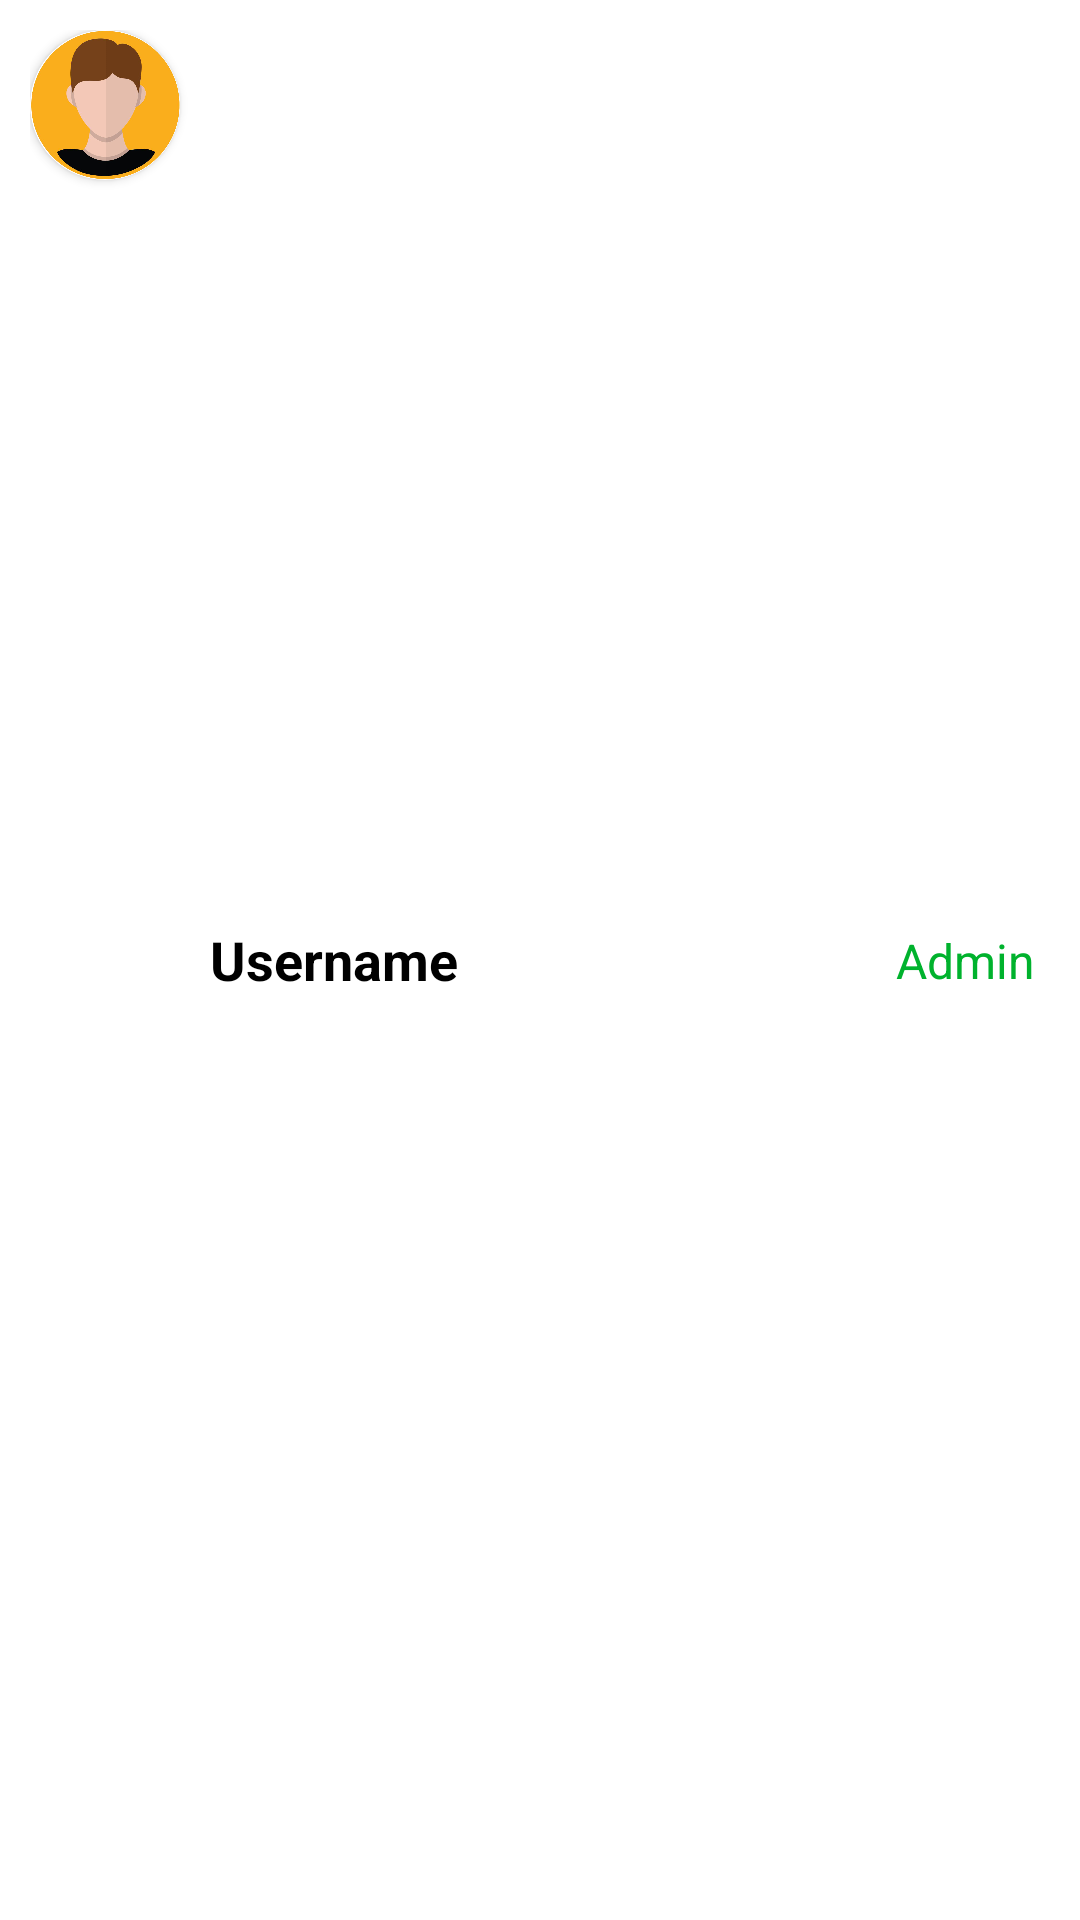

Icons on this 1080w x 1920h Android screen, each with its box as box(x1, y1, x2, y2):
profileavatar: box(30, 31, 180, 180)
